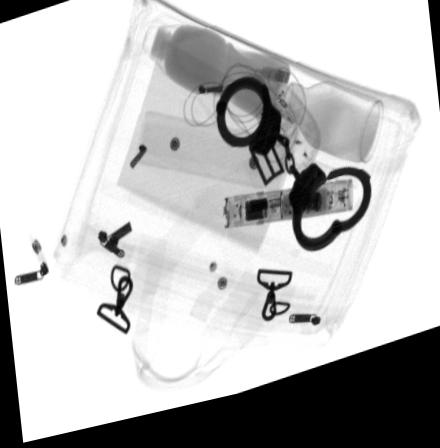Baton: (221, 193, 354, 241)
HandCuffs: (214, 85, 371, 268)
